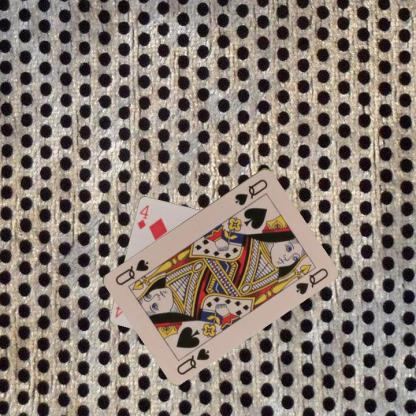4d: (135, 203, 150, 231)
Qs: (174, 345, 211, 376), (232, 176, 270, 206)
